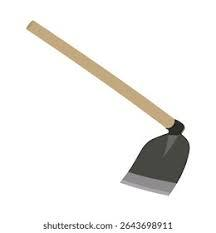HOUE: (15, 9, 195, 203)
